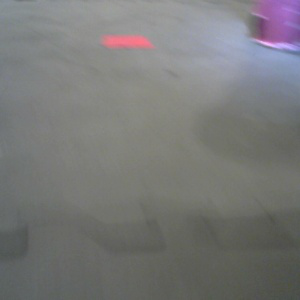right: (250, 1, 300, 54)
